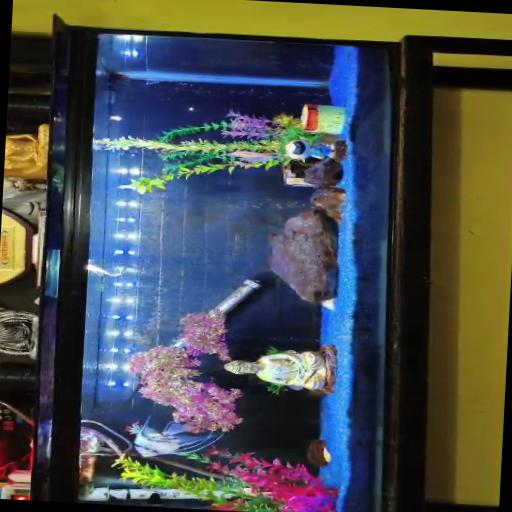Fish: (128, 417, 223, 457), (86, 259, 123, 277), (226, 151, 279, 162)
